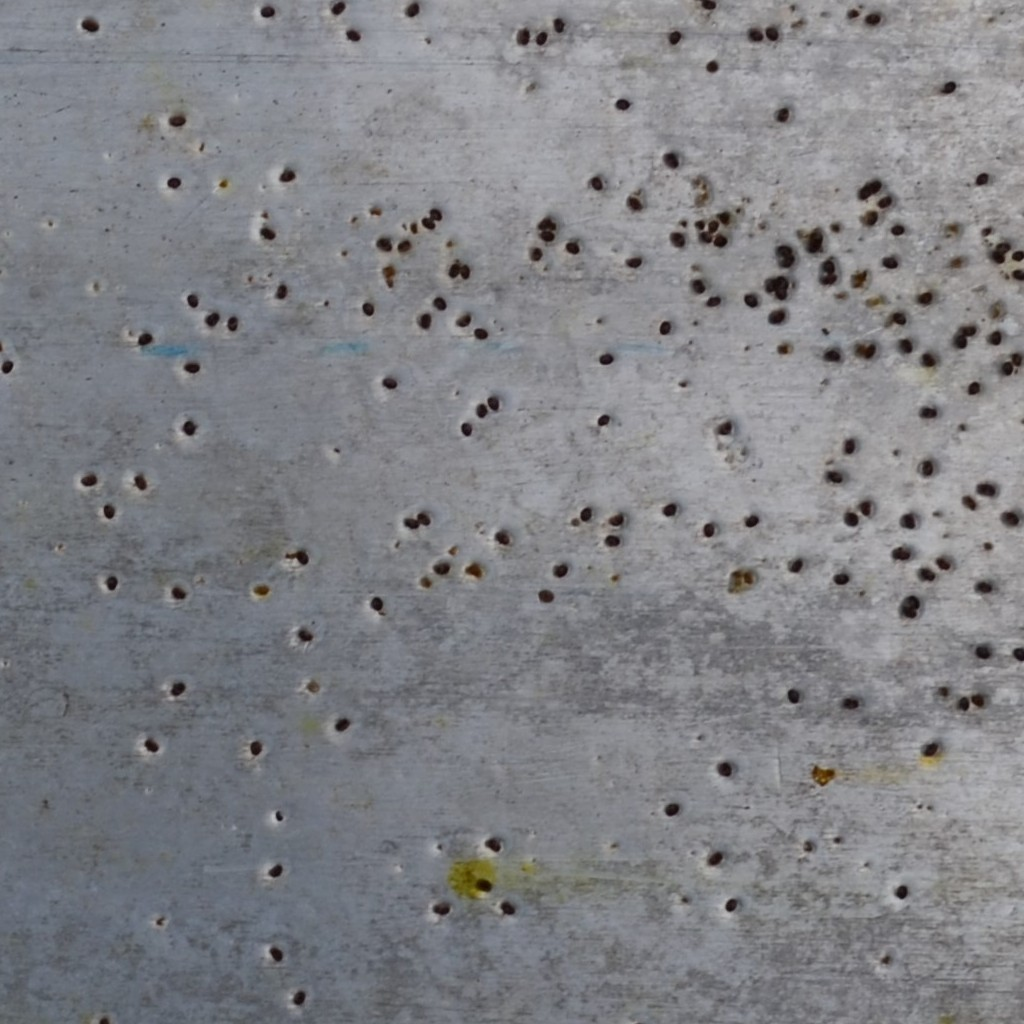varroa: (920, 738, 942, 764), (703, 843, 725, 868), (141, 734, 165, 756), (266, 939, 286, 965), (498, 895, 518, 921), (134, 330, 156, 353), (472, 874, 494, 897), (536, 585, 559, 607), (131, 469, 151, 494), (482, 832, 502, 857), (667, 227, 687, 252), (714, 755, 733, 781), (77, 468, 100, 489), (431, 898, 454, 919), (180, 357, 204, 377), (659, 149, 683, 169), (203, 308, 222, 333), (169, 580, 190, 602), (430, 558, 452, 579), (974, 479, 997, 499), (179, 417, 199, 440), (621, 252, 644, 272), (739, 509, 762, 529), (78, 17, 103, 35), (330, 715, 351, 736), (830, 565, 850, 587), (223, 312, 241, 336), (416, 308, 433, 333), (999, 507, 1019, 528), (917, 402, 938, 422), (265, 860, 285, 881), (661, 799, 682, 819), (956, 691, 971, 719), (429, 294, 449, 315), (492, 526, 512, 547), (168, 678, 187, 700), (658, 499, 680, 518), (722, 890, 740, 913), (765, 307, 788, 325), (380, 370, 398, 393), (786, 684, 804, 707), (104, 570, 121, 594), (513, 26, 529, 51), (277, 165, 297, 185), (373, 234, 393, 254), (972, 578, 993, 597), (880, 252, 899, 273), (625, 192, 644, 213), (933, 551, 951, 573), (893, 879, 911, 901), (587, 172, 605, 194), (453, 310, 471, 332), (787, 554, 805, 576), (858, 497, 874, 521), (987, 248, 1006, 268), (702, 56, 721, 76), (876, 193, 895, 213), (367, 593, 386, 613), (603, 531, 622, 551), (973, 168, 991, 189), (184, 289, 202, 310), (458, 418, 476, 439), (551, 560, 569, 581), (841, 694, 862, 712), (915, 566, 937, 583), (806, 225, 823, 247), (291, 983, 307, 1006), (527, 244, 546, 263), (593, 410, 612, 429), (863, 8, 881, 28), (272, 281, 290, 301), (247, 737, 265, 757), (612, 96, 632, 114), (297, 626, 317, 644), (607, 507, 625, 527), (970, 689, 987, 710), (819, 254, 836, 275), (537, 226, 558, 243), (418, 215, 439, 232), (898, 605, 920, 621), (901, 510, 916, 533), (973, 643, 991, 662), (775, 240, 793, 259), (597, 348, 615, 367), (763, 24, 780, 44), (890, 307, 907, 327), (166, 112, 186, 129), (842, 508, 859, 528), (703, 293, 723, 310), (717, 415, 733, 436), (577, 504, 593, 525), (691, 277, 706, 299), (919, 350, 937, 368), (897, 336, 915, 354), (402, 2, 420, 20), (165, 174, 183, 192), (987, 328, 1004, 347), (861, 207, 878, 226), (826, 467, 843, 486), (821, 346, 840, 363), (712, 230, 729, 249), (700, 522, 717, 541), (486, 393, 500, 416), (890, 221, 906, 241), (258, 225, 278, 241), (101, 501, 117, 521), (743, 290, 759, 310), (537, 216, 557, 232), (473, 324, 489, 344), (446, 260, 461, 281), (940, 78, 958, 95), (917, 288, 934, 306), (427, 205, 445, 222), (401, 515, 418, 533), (919, 458, 935, 477), (667, 27, 683, 46), (550, 15, 566, 34), (360, 300, 376, 319), (294, 546, 310, 565), (0, 357, 15, 377), (861, 340, 876, 360), (657, 317, 672, 337), (474, 399, 488, 420), (564, 239, 581, 256), (395, 238, 412, 255), (959, 495, 977, 511), (773, 106, 791, 122), (258, 4, 276, 20), (697, 227, 713, 245), (954, 333, 969, 352), (761, 275, 780, 290), (842, 435, 856, 455), (869, 173, 882, 194), (330, 0, 347, 16), (345, 26, 361, 43), (820, 270, 837, 286), (999, 359, 1014, 377), (748, 26, 763, 44), (893, 546, 911, 561), (459, 262, 473, 281), (698, 1, 718, 14), (777, 255, 797, 268), (774, 285, 790, 301), (967, 378, 981, 396), (533, 28, 547, 46), (907, 593, 921, 611), (416, 508, 430, 526), (1010, 267, 1023, 286), (1010, 349, 1023, 368), (961, 322, 977, 337), (858, 182, 872, 199), (995, 239, 1011, 253), (1010, 246, 1023, 263), (1012, 645, 1023, 665), (717, 209, 730, 225), (776, 276, 790, 289), (706, 220, 719, 233), (693, 219, 705, 230)
